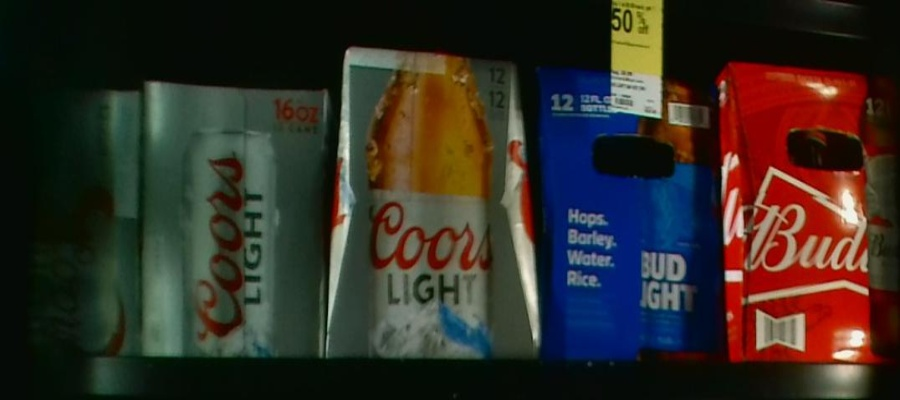bottle: (336, 47, 542, 356), (536, 67, 724, 360), (720, 62, 894, 363), (144, 82, 326, 360), (1, 92, 143, 356)
